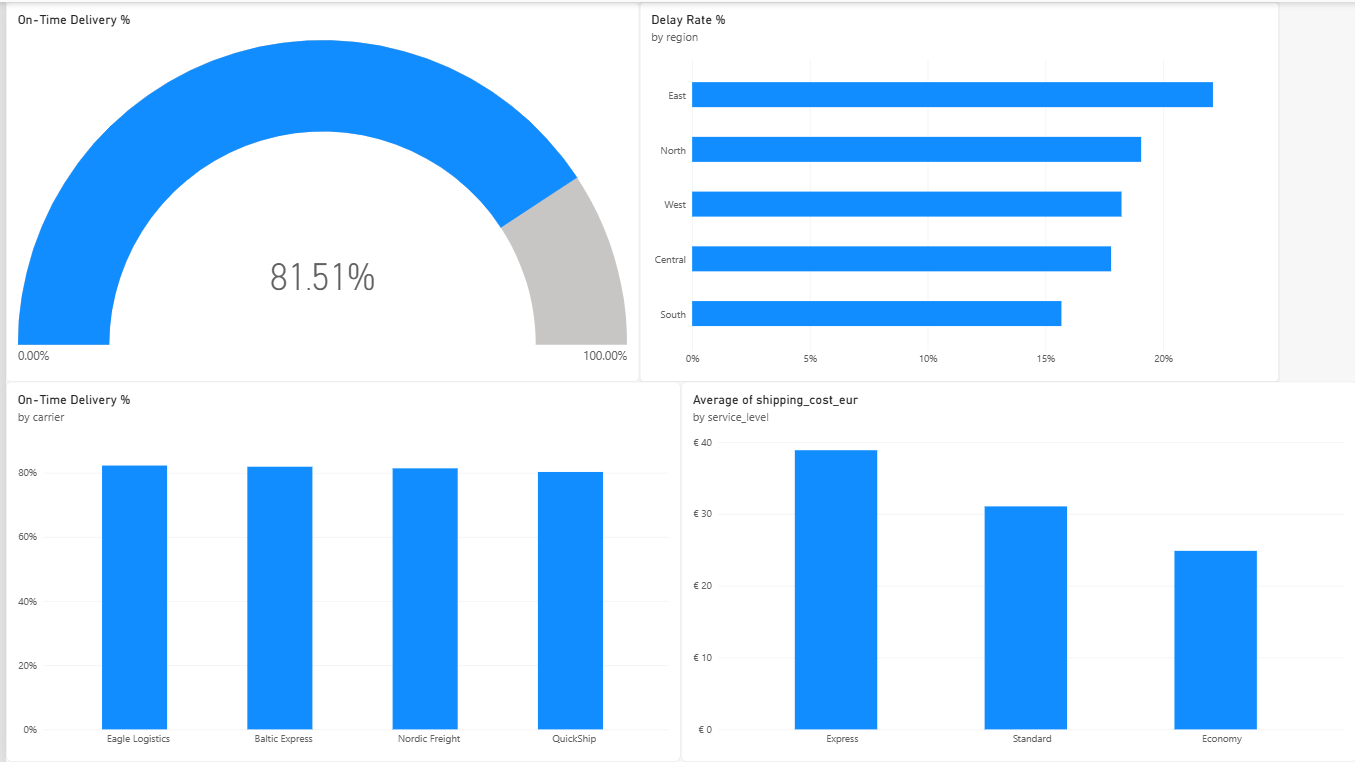

Layout of this report page (visuals, bound fields, positions):
{"tool":"powerbi","page":{"name":"Page 2","canvas":[1920,1080],"ordinal":0},"visuals":[{"type":"gauge","fields":{"Y":["Shipments.On-Time Delivery %"]},"box":[0,0,900.1,539.6],"z":0},{"type":"clusteredColumnChart","fields":{"Category":["Shipments.carrier"],"Y":["Shipments.On-Time Delivery %"]},"box":[0,539.6,959,539.6],"z":1000},{"type":"clusteredBarChart","fields":{"Category":["Shipments.region"],"Y":["Shipments.Delay Rate %"]},"box":[900.1,0,909.5,539.6],"z":2000},{"type":"clusteredColumnChart","fields":{"Category":["Shipments.service_level"],"Y":["Avg(Shipments.shipping_cost_eur)"]},"box":[959,539.6,961.4,539.6],"z":3000}]}

Visuals, with their boxes in screenshot pixels (x1, y1, x2, y2), scaled from the page's 1920x1080 canvas onto the 1355x762 screenshot:
gauge - Shipments.On-Time Delivery %: 0,0,635,381
clusteredColumnChart - Shipments.carrier x Shipments.On-Time Delivery %: 0,381,677,761
clusteredBarChart - Shipments.region x Shipments.Delay Rate %: 635,0,1277,381
clusteredColumnChart - Shipments.service_level x Avg(Shipments.shipping_cost_eur): 677,381,1354,761
